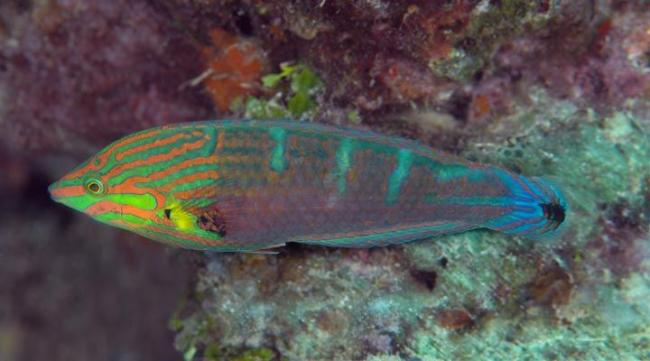fish: (48, 118, 570, 256)
